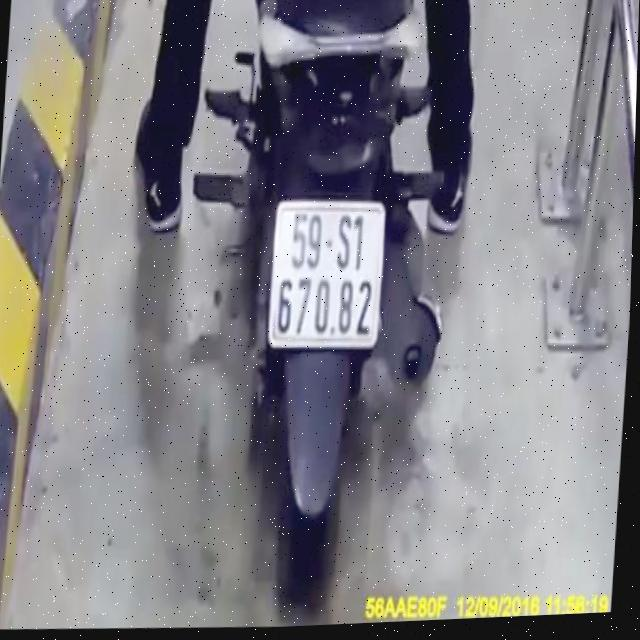motorcycle: (156, 0, 473, 607)
plate: (260, 191, 394, 357)
